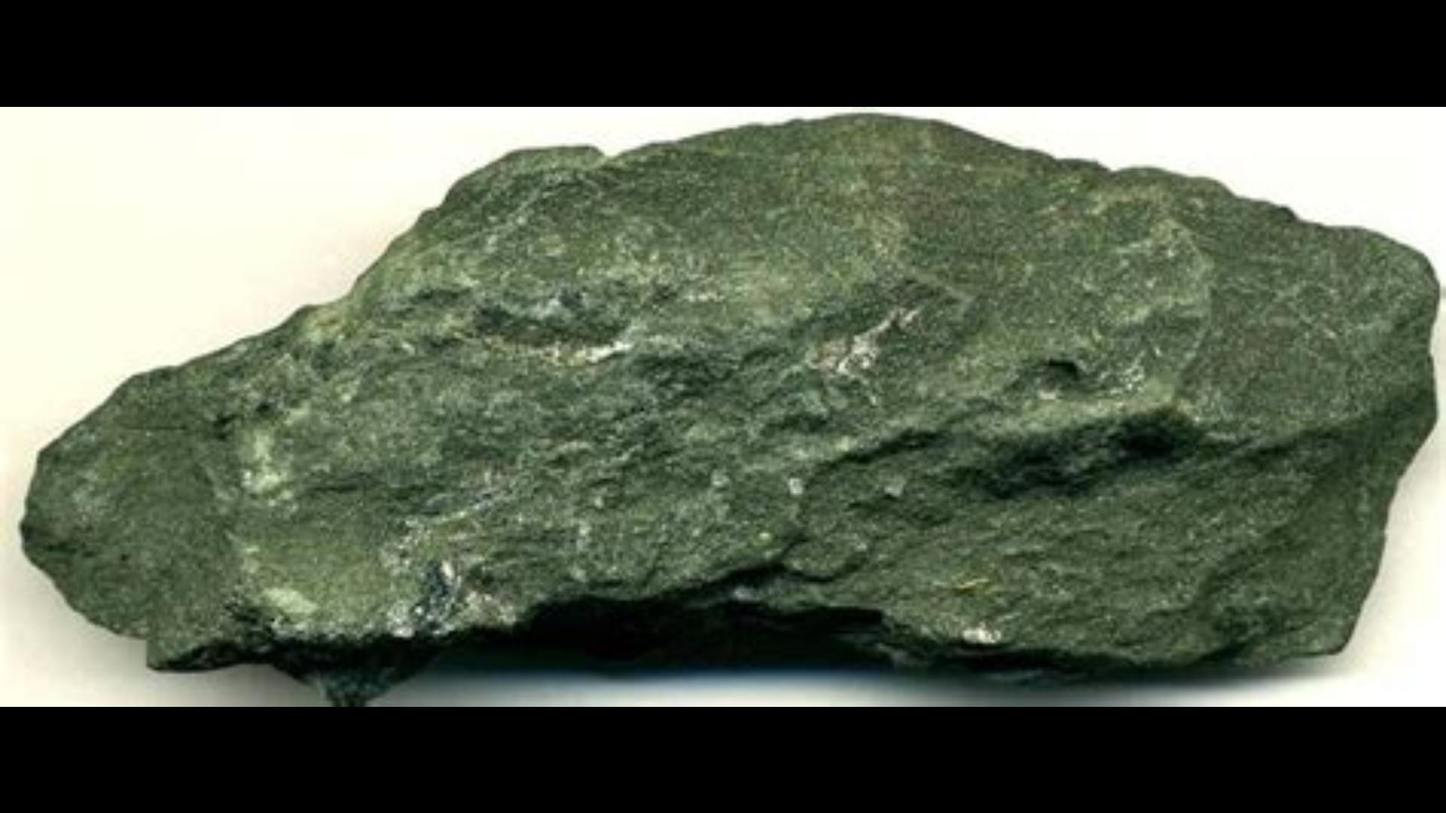rock: (21, 121, 1434, 704)
